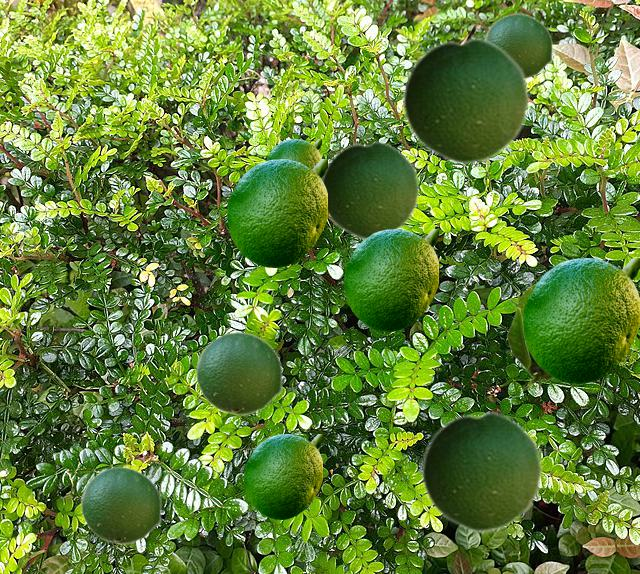dalandan: (401, 35, 529, 165), (420, 409, 542, 533), (523, 258, 638, 382), (227, 159, 326, 266), (323, 139, 419, 240), (344, 229, 437, 330), (195, 331, 282, 415), (244, 434, 321, 518), (80, 466, 161, 544), (505, 283, 552, 390), (484, 13, 552, 78), (265, 139, 320, 167)
